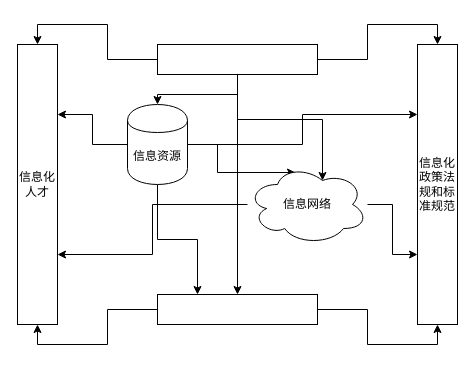
This 475x370 diagram has some shape labels left out. Here are the shapes that lost their labels. From the top down, the box of each, then its label:
(156, 44, 318, 74): 信息技术应用
(156, 294, 318, 324): 信息技术和产业
